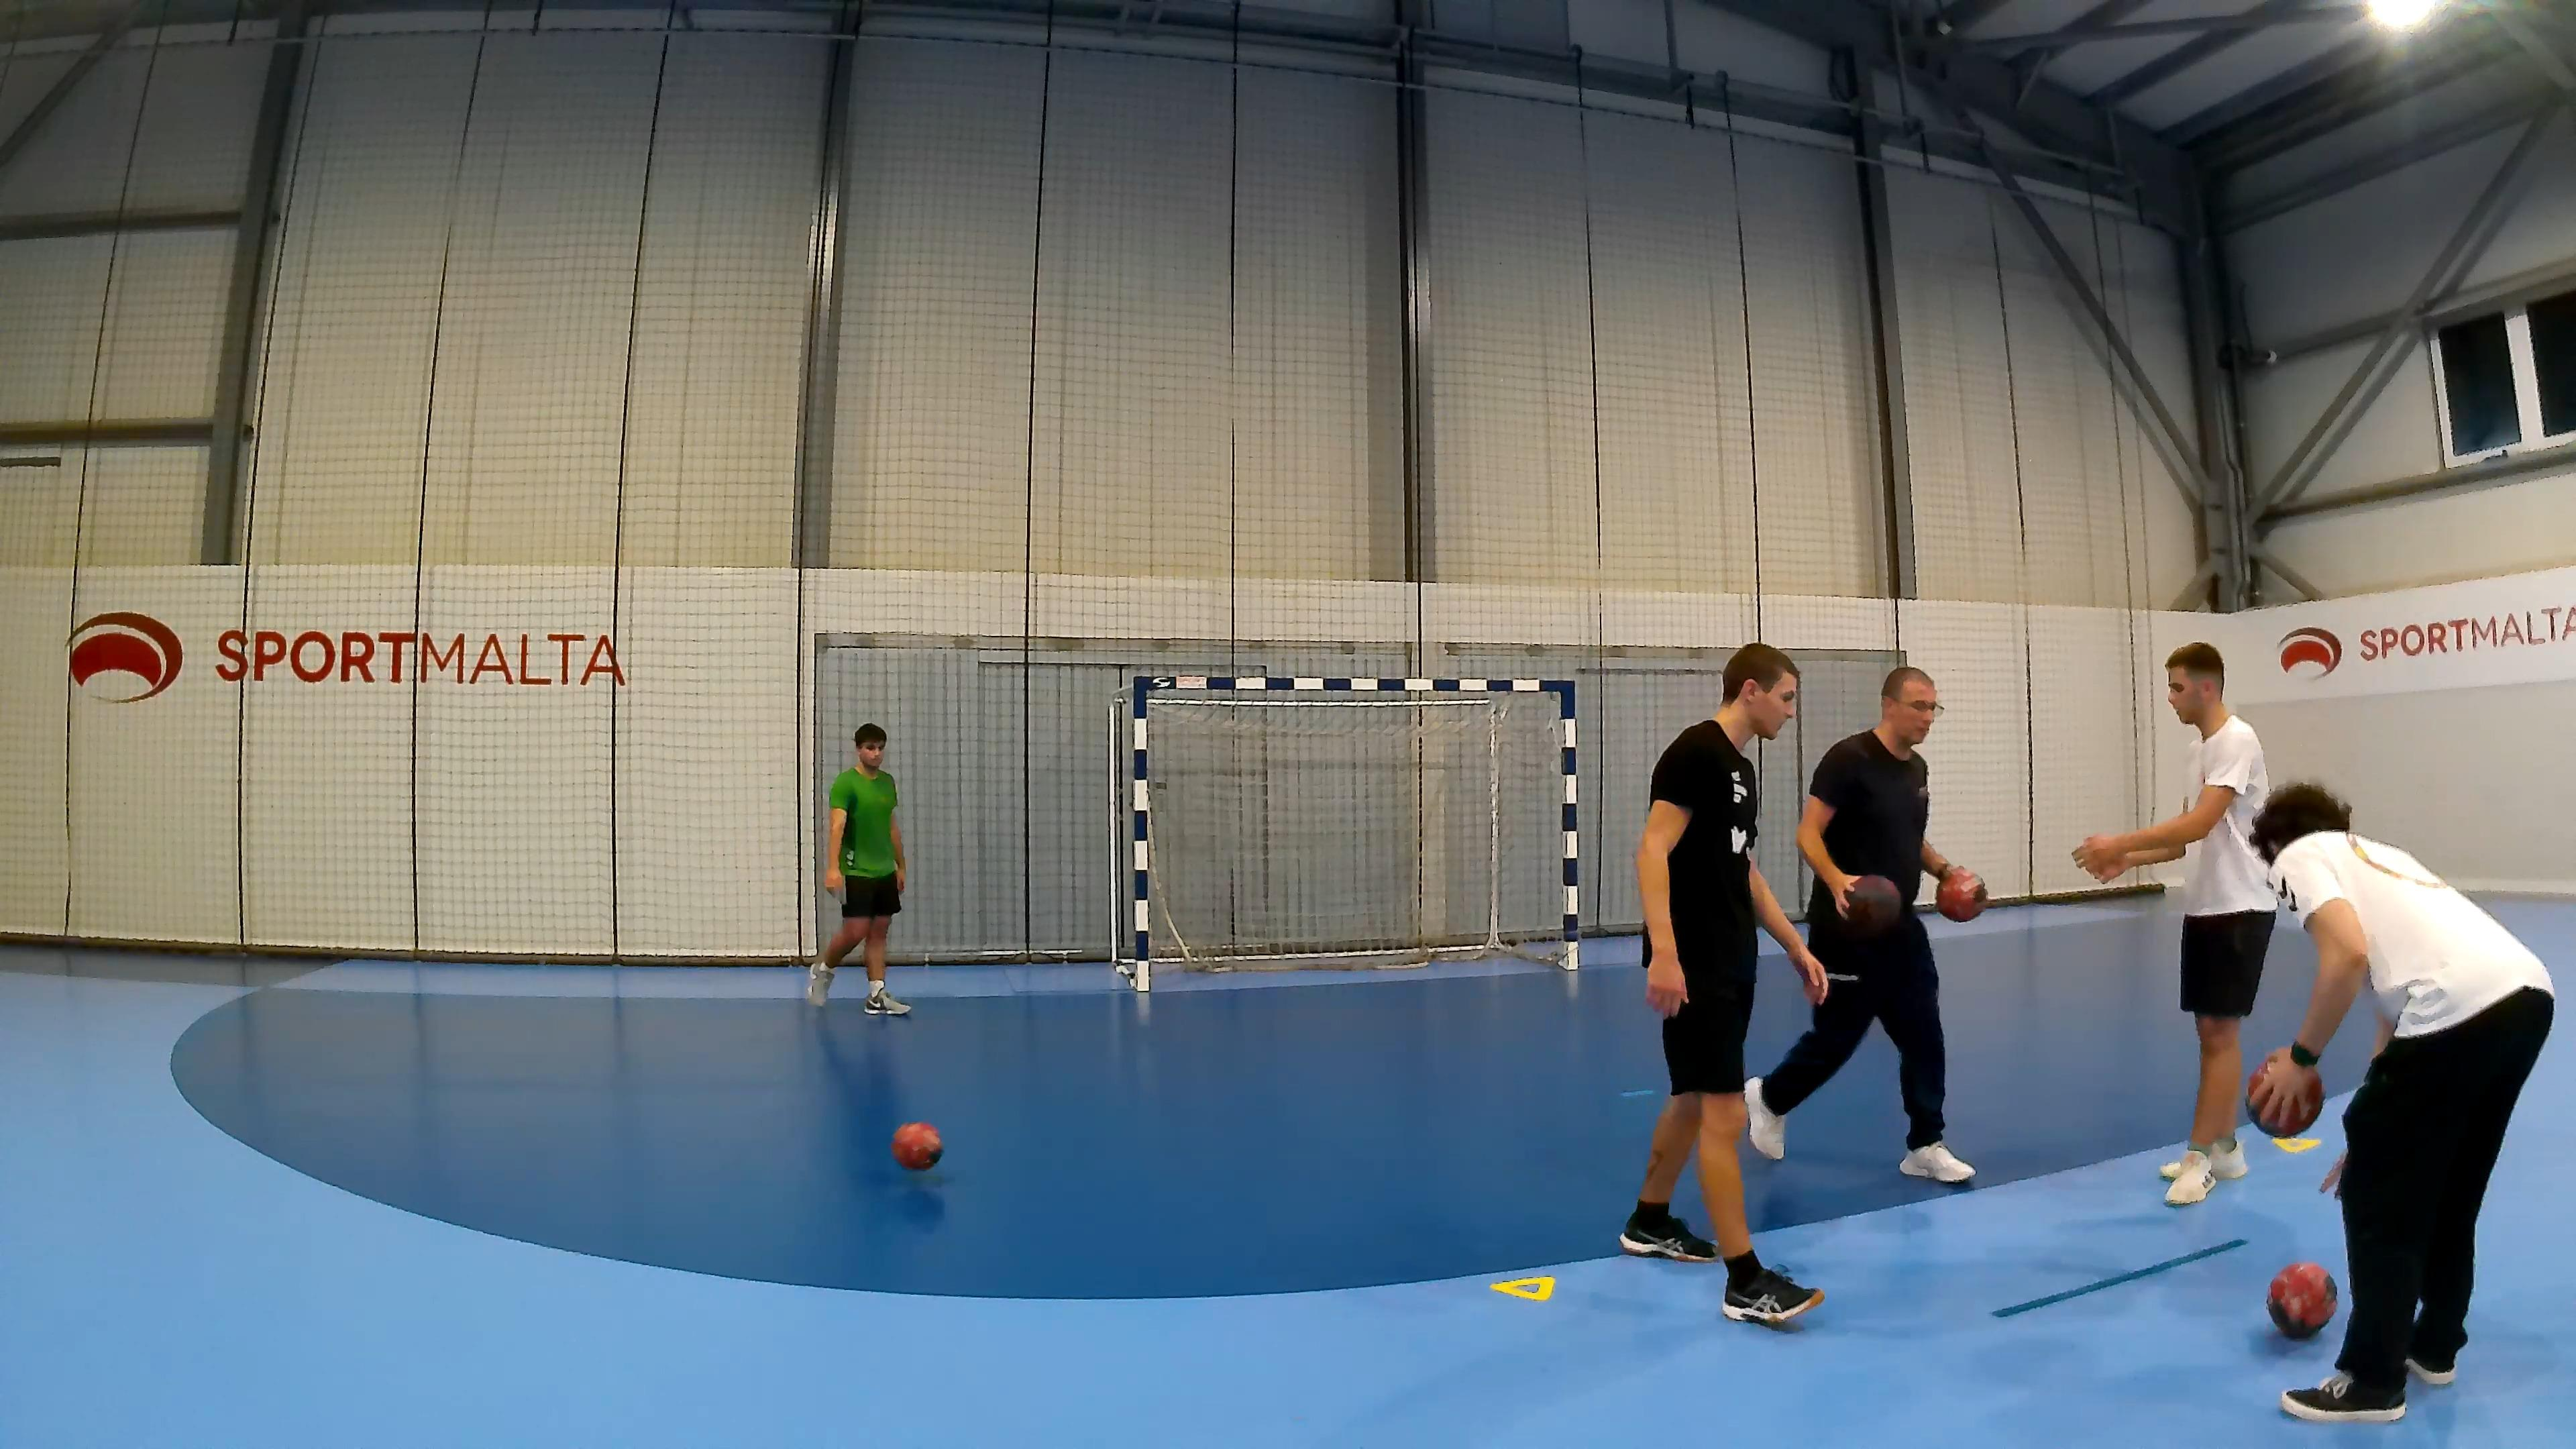handball: (2245, 1054, 2323, 1138), (2265, 1260, 2337, 1338), (1842, 874, 1902, 936), (1936, 865, 1985, 922), (890, 1120, 943, 1169)
